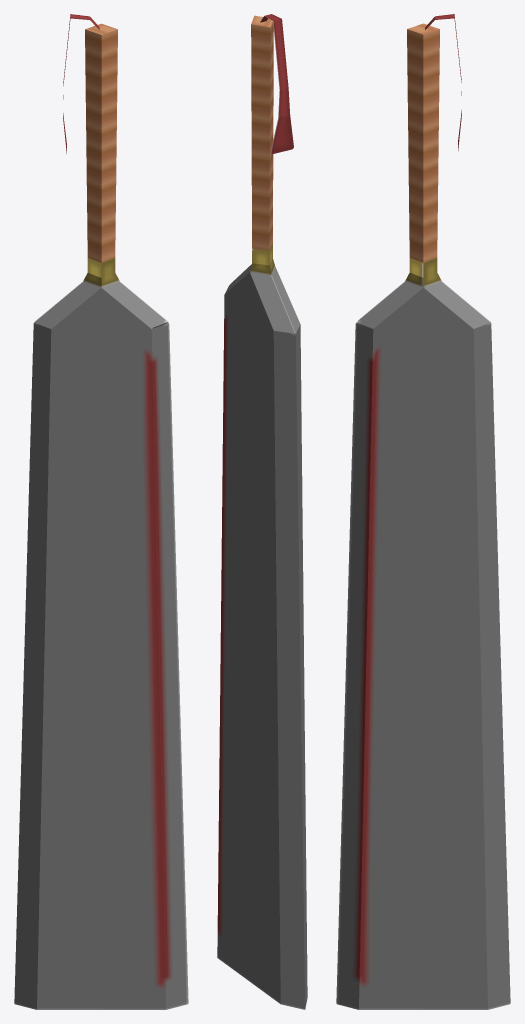
Rendered from Espada02_Textured.fbx.
3 views of the same model, side by side, from view 1: azimuth 90°, elevation 25°; view 2: azimuth 210°, elevation 25°; view 3: azimuth 270°, elevation 25° (orthographic).
Parts seen in each view (by area): view 1: Espada02; view 2: Espada02; view 3: Espada02.
Part boxes in pixels (x1,y1,x2,y2): Espada02: (14,14,188,1009); Espada02: (217,14,307,1009); Espada02: (336,14,510,1009).
Bounding box in the file's own units: 11.69 × 383 × 61.18.
